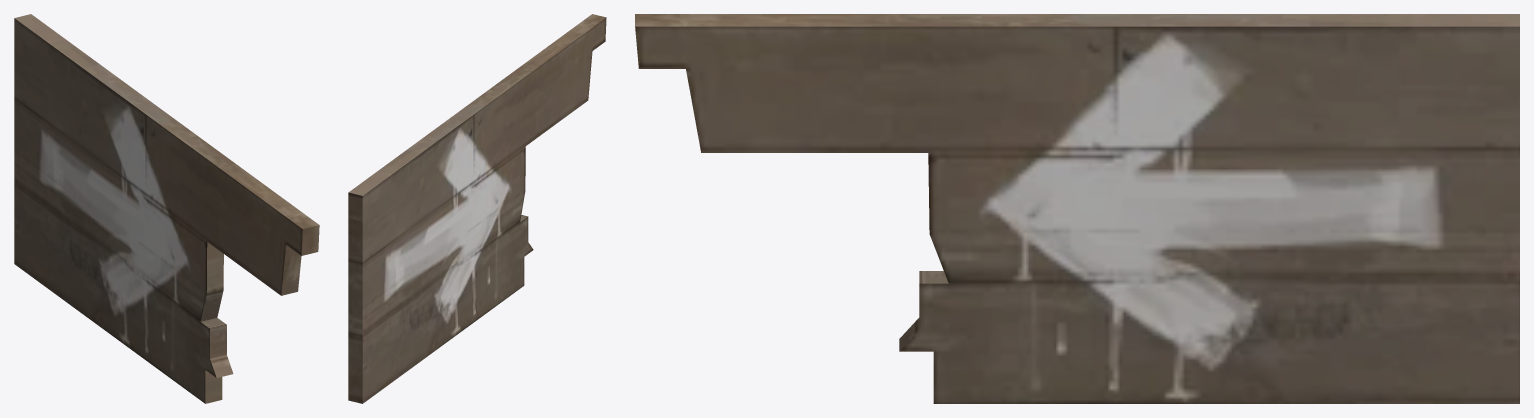
3 renders of one model, left to right at view 1: azimuth 30°, elevation 25°; view 2: azimuth 150°, elevation 25°; view 3: azimuth 270°, elevation 25°, orthographic. The views are drawn at different scales.
Visible parts, largest first — view 1: body0_model0_lod0_mesh0; view 2: body0_model0_lod0_mesh0; view 3: body0_model0_lod0_mesh0.
Part boxes in pixels (x1,y1,x2,y2): body0_model0_lod0_mesh0: [14, 14, 319, 403]; body0_model0_lod0_mesh0: [348, 14, 606, 403]; body0_model0_lod0_mesh0: [635, 14, 1519, 403].
Bounding box in the file's own units: 5.92 × 82.73 × 176.
Materials: 1 (1 with a texture image).
